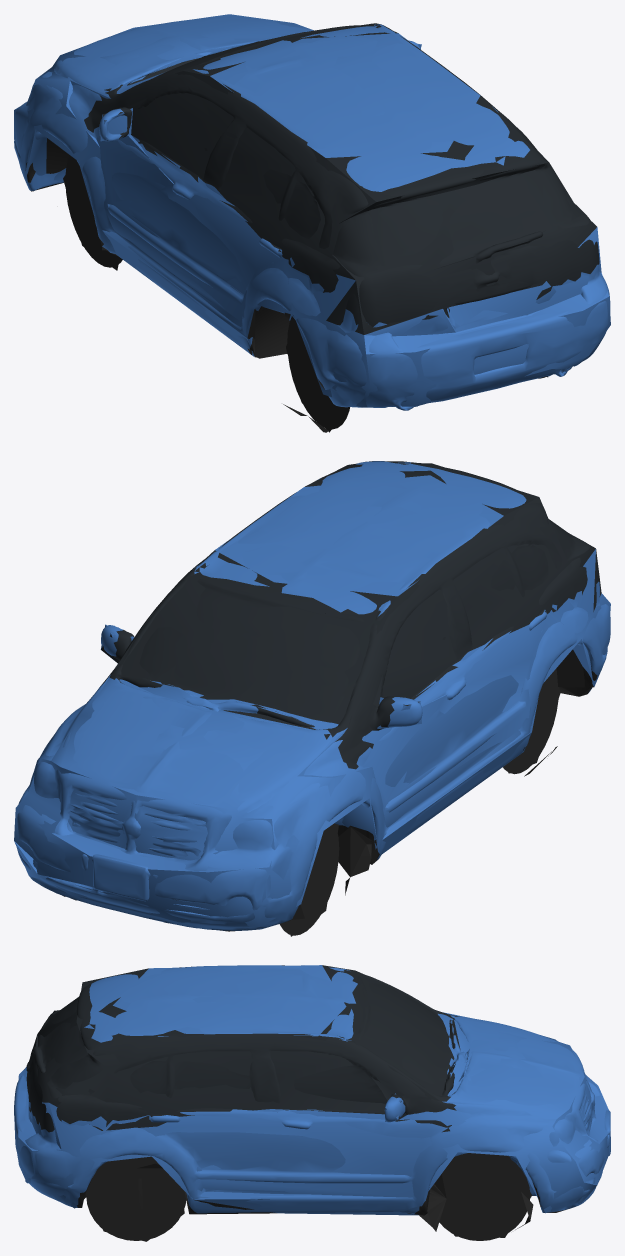
The model's file is dodge-caliber.glb.
The picture shows the model from 3 angles, top to bottom: view 1: azimuth 30°, elevation 25°; view 2: azimuth 150°, elevation 25°; view 3: azimuth 270°, elevation 25°; orthographic projection. The views are drawn at different scales.
Visible parts, largest first — view 1: body, far; view 2: body, far; view 3: body, far.
Part boxes in pixels (x1=…): body: x1=14, y1=17, x2=610, y2=432; far: x1=14, y1=14, x2=610, y2=432; body: x1=16, y1=461, x2=610, y2=935; far: x1=14, y1=463, x2=610, y2=936; body: x1=14, y1=965, x2=610, y2=1240; far: x1=17, y1=965, x2=609, y2=1241.
Size of the model in its own units: 2.13 by 1.7 by 4.44.
